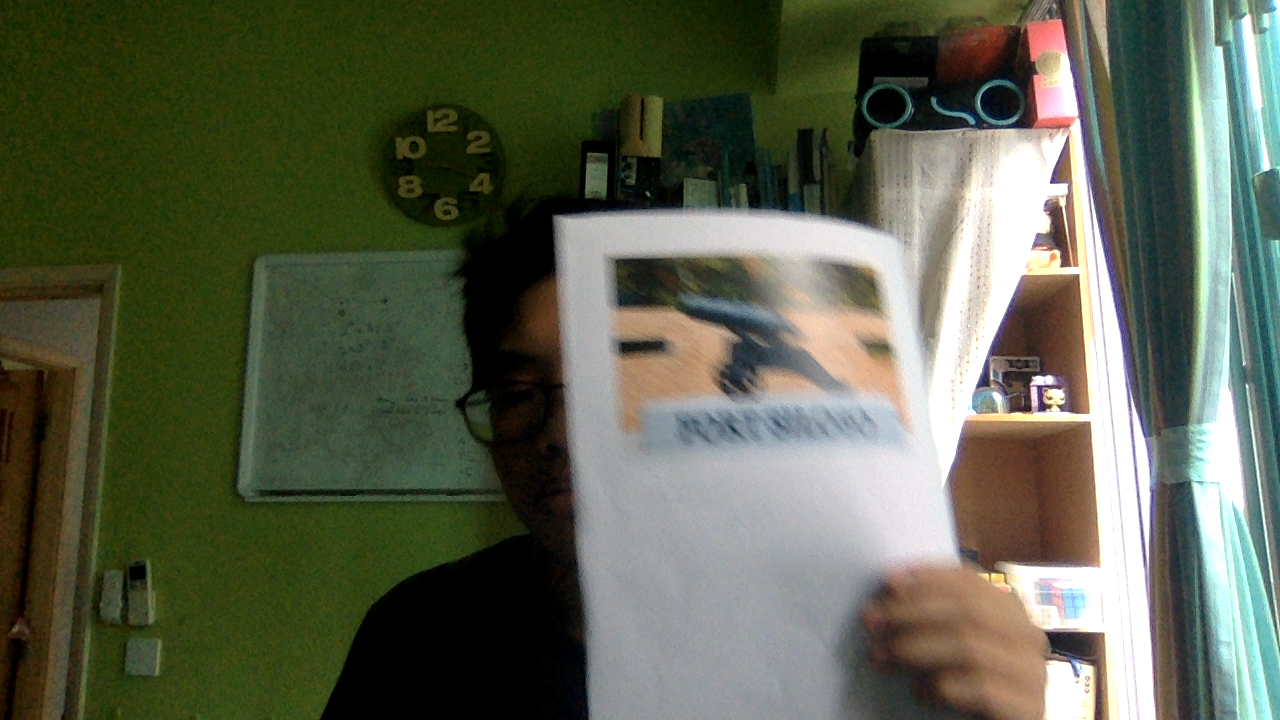siloso: (612, 241, 916, 458)
